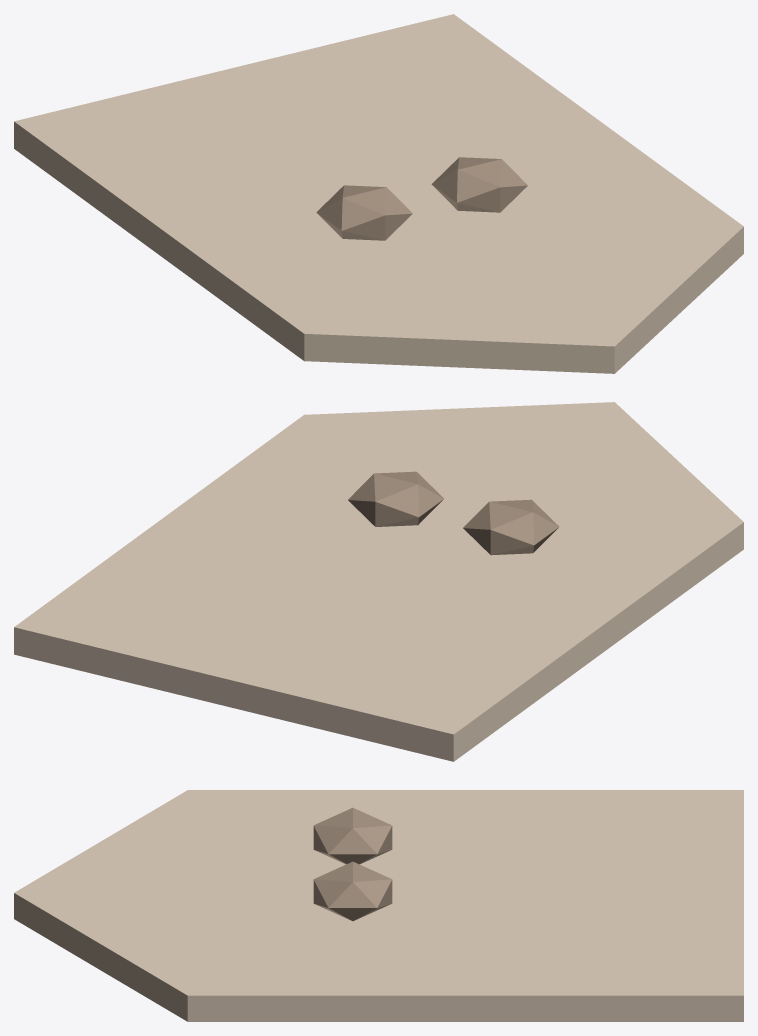
Rendered from bare-ground.glb.
3 renders of one model, top to bottom at view 1: azimuth 30°, elevation 25°; view 2: azimuth 150°, elevation 25°; view 3: azimuth 270°, elevation 25°, orthographic. The views are drawn at different scales.
Parts seen in each view (by area): view 1: blank-card-base, bare-rock-2, bare-rock-1; view 2: blank-card-base, bare-rock-2, bare-rock-1; view 3: blank-card-base, bare-rock-2, bare-rock-1.
Part boxes in pixels (bbox=[...]): blank-card-base: bbox=[14, 14, 743, 373]; bare-rock-2: bbox=[431, 157, 527, 212]; bare-rock-1: bbox=[316, 185, 412, 240]; blank-card-base: bbox=[14, 402, 743, 761]; bare-rock-2: bbox=[348, 471, 443, 526]; bare-rock-1: bbox=[463, 499, 559, 555]; blank-card-base: bbox=[14, 790, 743, 1021]; bare-rock-2: bbox=[313, 861, 392, 921]; bare-rock-1: bbox=[313, 807, 392, 864].
Size of the model in its own units: 1.68 by 0.2549 by 2.52.
